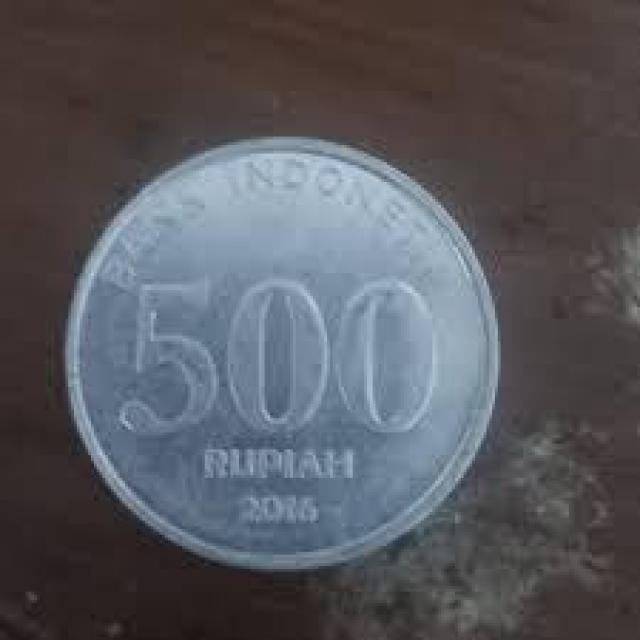500-silver: (59, 133, 521, 561)
